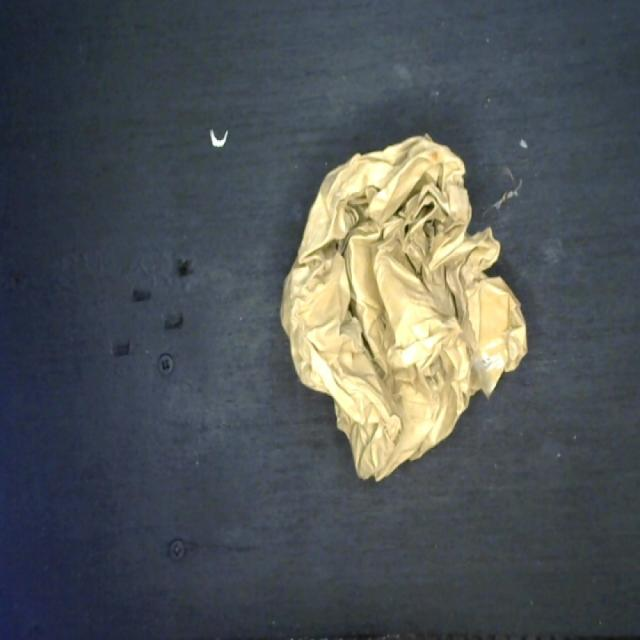biodegradable: (278, 128, 533, 498)
